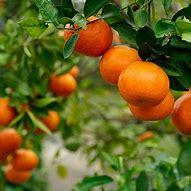orange: (116, 60, 170, 107), (63, 18, 114, 53), (98, 43, 138, 77), (168, 81, 191, 136), (16, 146, 41, 169), (3, 128, 22, 151)
